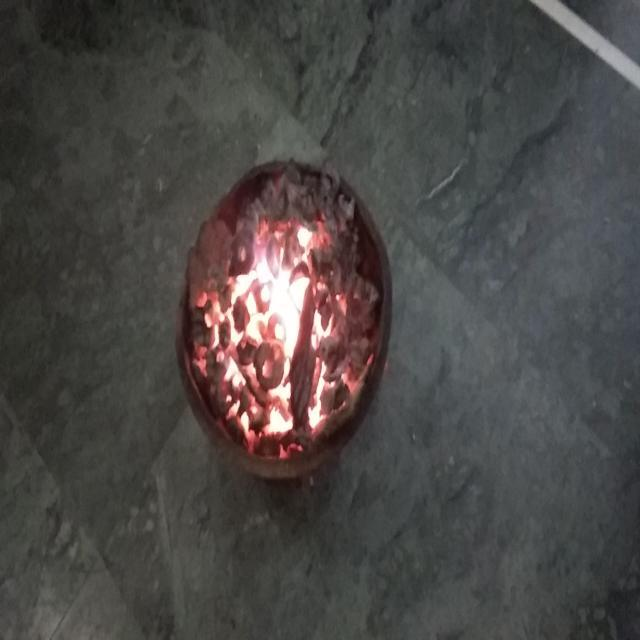Fire: (216, 244, 334, 406)
